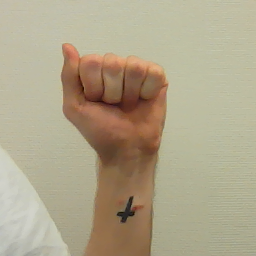A: (58, 42, 172, 149)
